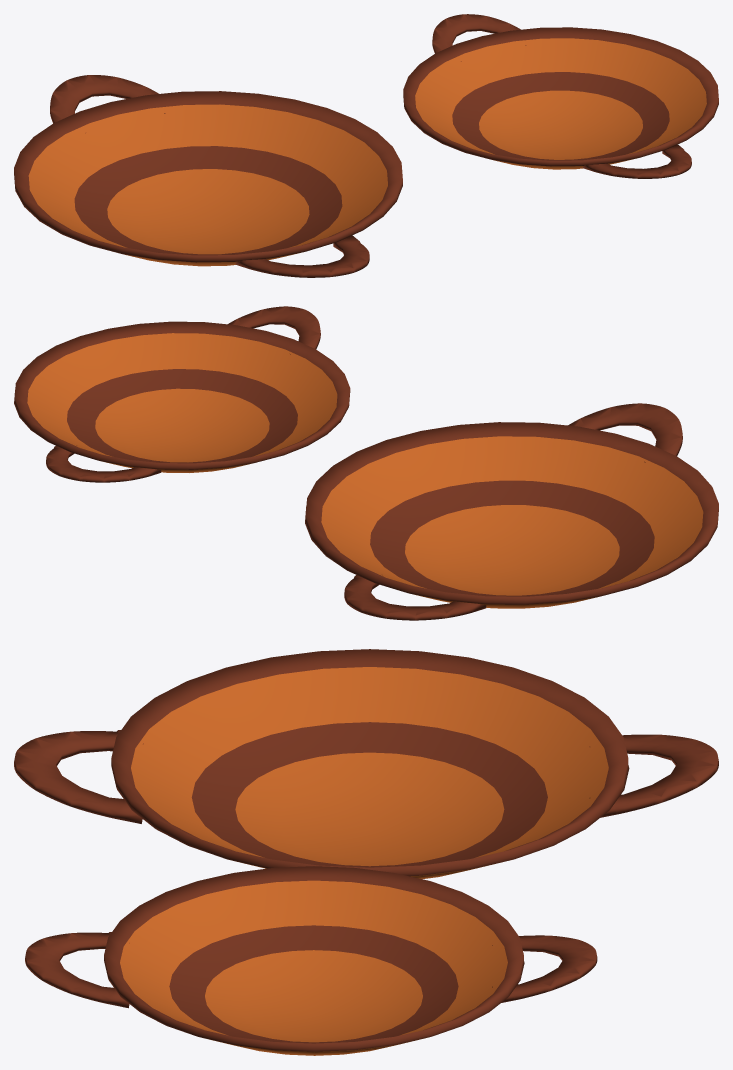
File: cazuela.gltf
3 views of the same model, one above another, from view 1: azimuth 30°, elevation 25°; view 2: azimuth 150°, elevation 25°; view 3: azimuth 270°, elevation 25° (orthographic). The views are drawn at different scales.
Visible parts, largest first — view 1: Esfera.001, Esfera, Círculo.002, Círculo.003, Círculo, Círculo.001; view 2: Esfera.001, Esfera, Círculo.003, Círculo.002, Círculo.001, Círculo; view 3: Esfera.001, Esfera, Círculo.003, Círculo.002, Círculo.001, Círculo.
Boxes of the visible parts, bbox=[...] form: Esfera.001: bbox=[14, 91, 402, 266]; Esfera: bbox=[403, 27, 718, 169]; Círculo.002: bbox=[50, 75, 165, 133]; Círculo.003: bbox=[235, 235, 369, 277]; Círculo: bbox=[432, 14, 526, 61]; Círculo.001: bbox=[583, 144, 691, 178]; Esfera.001: bbox=[305, 422, 718, 608]; Esfera: bbox=[14, 321, 350, 472]; Círculo.003: bbox=[568, 403, 682, 462]; Círculo.002: bbox=[344, 575, 486, 620]; Círculo.001: bbox=[228, 306, 320, 354]; Círculo: bbox=[46, 445, 161, 482]; Esfera.001: bbox=[111, 649, 629, 879]; Esfera: bbox=[104, 866, 524, 1055]; Círculo.003: bbox=[14, 730, 143, 823]; Círculo.002: bbox=[589, 734, 718, 817]; Círculo.001: bbox=[25, 932, 129, 1008]; Círculo: bbox=[492, 935, 597, 1002].
Size of the model in its own units: 2.59 by 0.2922 by 1.87.
